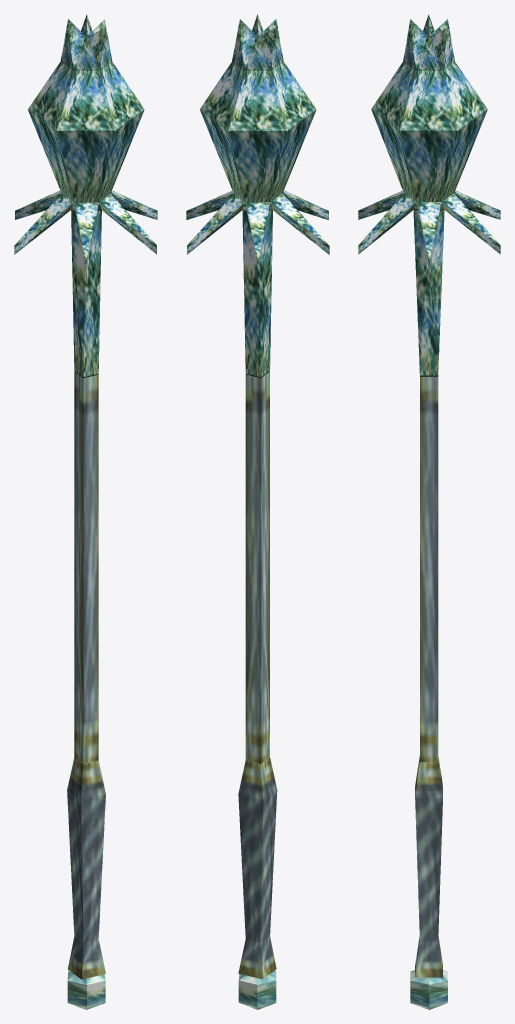
Rendered from wavemaster01_4.obj.
The picture shows the model from 3 angles, left to right: view 1: azimuth 30°, elevation 25°; view 2: azimuth 150°, elevation 25°; view 3: azimuth 270°, elevation 25°; orthographic projection.
Parts seen in each view (by area): view 1: wavemaster01_4; view 2: wavemaster01_4; view 3: wavemaster01_4.
Part boxes in pixels (bbox=[...]): wavemaster01_4: bbox=[14, 14, 157, 1009]; wavemaster01_4: bbox=[186, 14, 329, 1009]; wavemaster01_4: bbox=[358, 14, 500, 1009].
Size of the model in its own units: 0.2587 by 1.7 by 0.2224.
